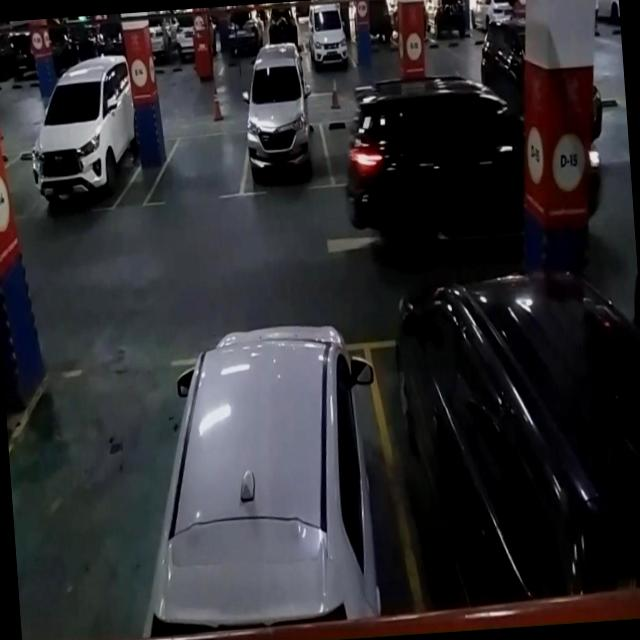car: (185, 346, 438, 640), (22, 56, 138, 217), (234, 40, 328, 196)
free: (4, 371, 216, 640), (138, 128, 248, 208)
